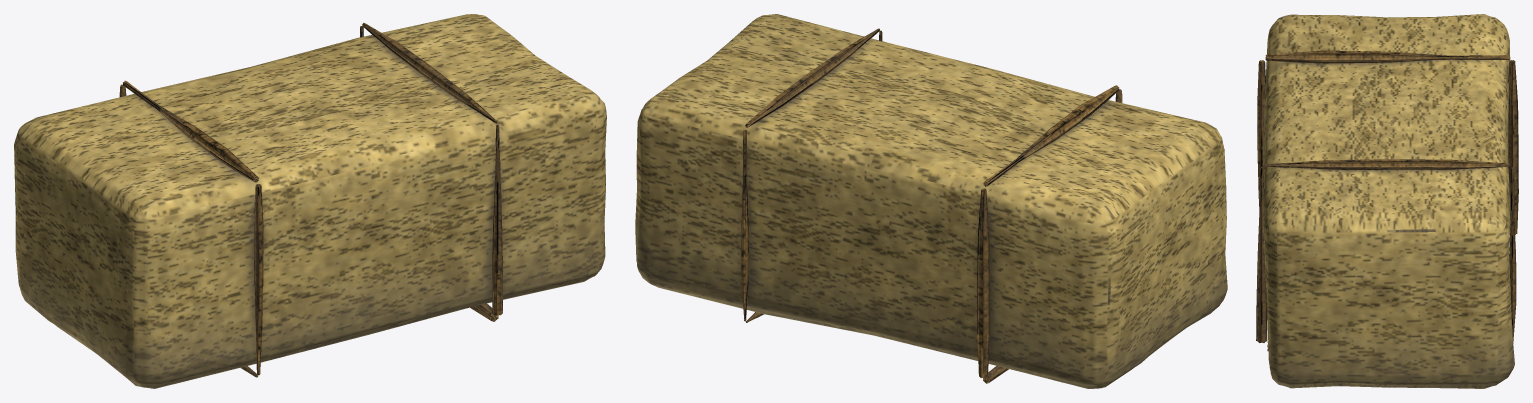
File: SM_HayBale_Square_Body.fbx
The picture shows the model from 3 angles, left to right: view 1: azimuth 30°, elevation 25°; view 2: azimuth 150°, elevation 25°; view 3: azimuth 270°, elevation 25°; orthographic projection. The views are drawn at different scales.
Visible parts, largest first — view 1: HayBale_Square_Body; view 2: HayBale_Square_Body; view 3: HayBale_Square_Body.
Part boxes in pixels (left/top/right/bottom): HayBale_Square_Body: left=14, top=14, right=606, bottom=388; HayBale_Square_Body: left=635, top=14, right=1227, bottom=388; HayBale_Square_Body: left=1256, top=14, right=1518, bottom=388.
Size of the model in its own units: 0.5157 by 1 by 0.4237.
Materials: 1 (1 with a texture image).
